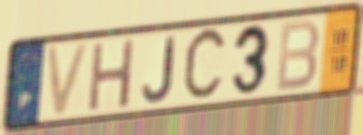3: (231, 22, 271, 100)
B: (274, 17, 321, 95)
C: (180, 23, 230, 107)
H: (86, 36, 138, 115)
J: (141, 34, 177, 105)
V: (43, 39, 93, 120)
